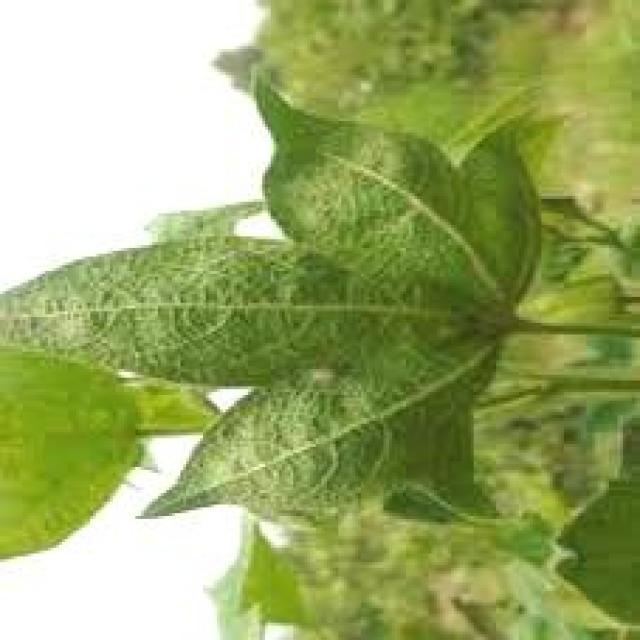Leaf Curl Virus: (167, 201, 492, 457)
